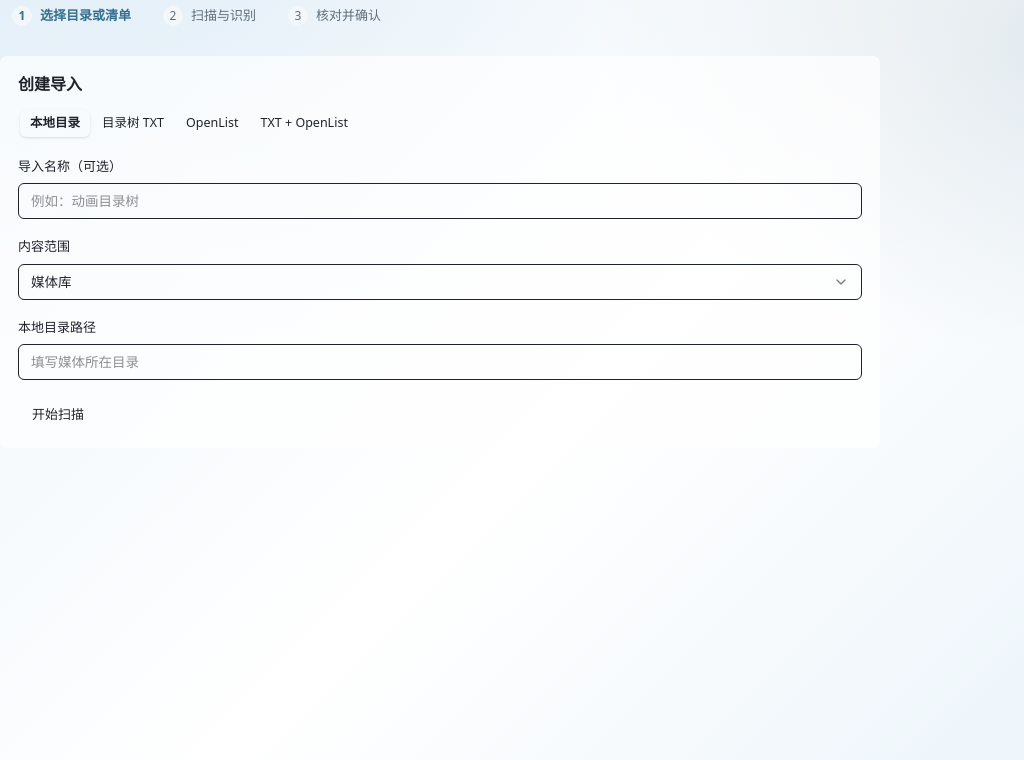
it: TXT 路径多解的映射选择（F8） › 多解响应不报"已开始扫描"，而是列出候选并保留输入
Click the radio button labelled "目录树 TXT" at (133, 123), box left=92, top=110, right=174, bottom=137
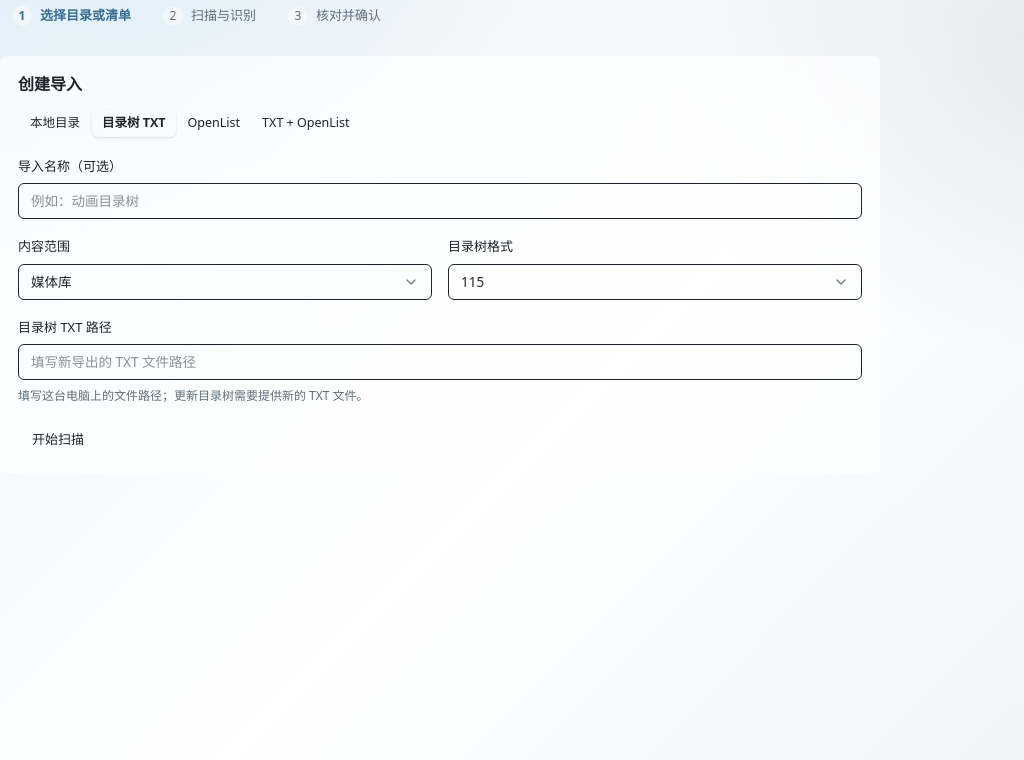
Type "D:\\Trees\\115-anime.txt" into the field labelled "目录树 TXT 路径" at (440, 362), box left=18, top=344, right=862, bottom=380
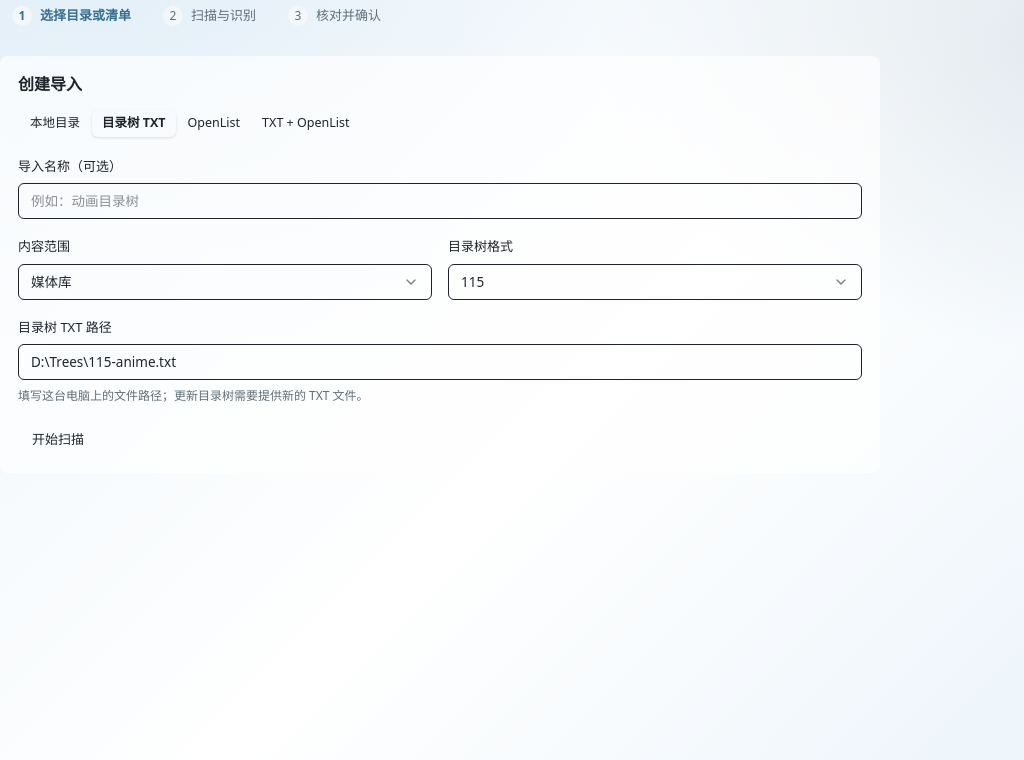
Click the button "开始扫描" at (58, 439), box left=18, top=421, right=98, bottom=457
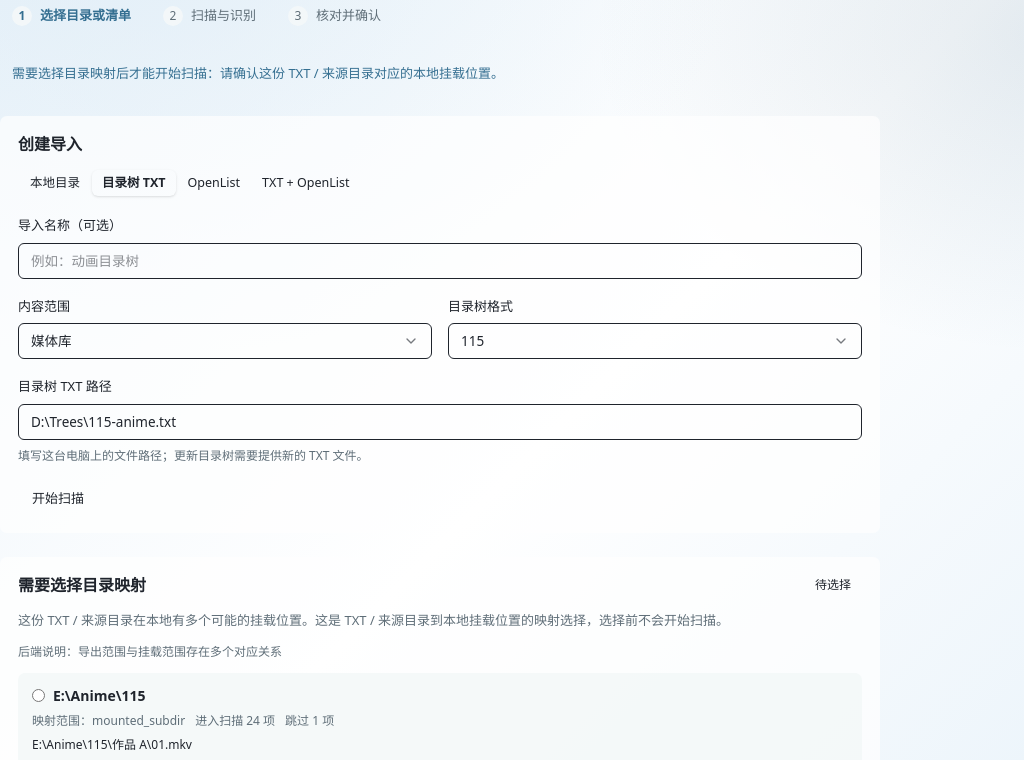
expect the message shows "需要选择目录映射后才能开始扫描": met, box left=12, top=64, right=504, bottom=82
expect the radio button labelled "E:\\Anime\\115" is shown: met, box left=32, top=689, right=45, bottom=702
expect the text "E:\\Anime\\115\\作品 A\\01.mkv" is shown: met, box left=32, top=736, right=192, bottom=753
